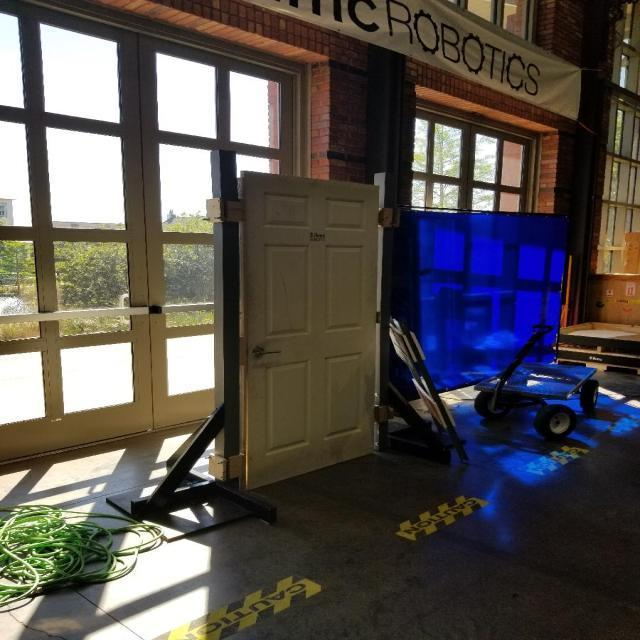door: (235, 168, 385, 494), (246, 343, 286, 360)
